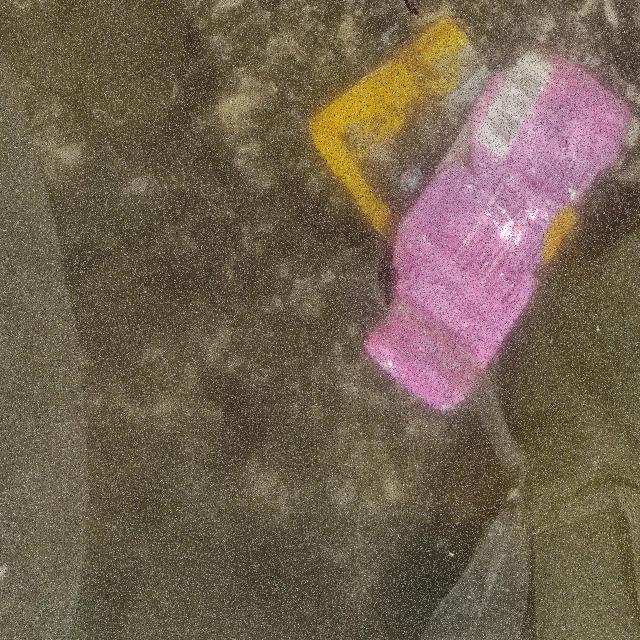plastic_waste: (307, 16, 633, 415)
